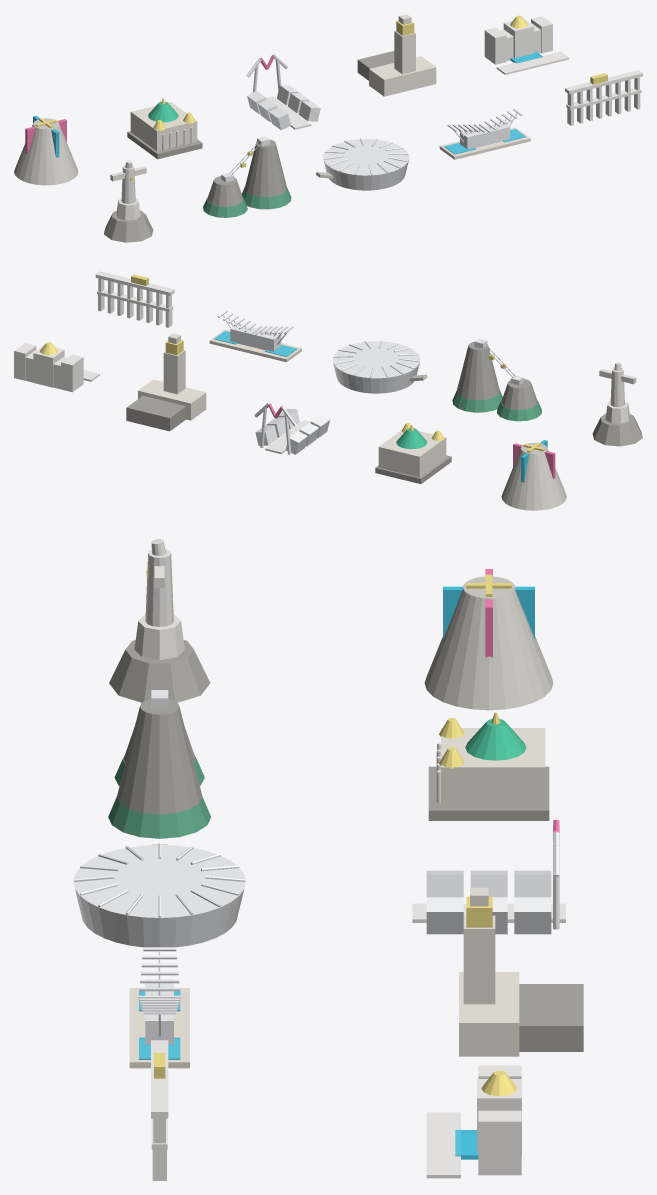
File: rio_monuments.glb
3 views of the same model, one above another, from view 1: azimuth 30°, elevation 25°; view 2: azimuth 150°, elevation 25°; view 3: azimuth 270°, elevation 25° (orthographic). The views are drawn at different scales.
Parts seen in each view (by area): view 1: Maracana_Outer_Bowl, Cat_Mayan_Cone, Theatro_Main_Body, Pao_de_Acucar_Monolith, Central_Concourse_Wings, Corcovado_Peak_Base, Central_Tower_Shaft, Tomorrow_Main_Hall, Morro_da_Urca, Copa_Center_Pavilion, Copa_Wing_Tower_-1.95, Copa_Wave_Promenade (+15 smaller); view 2: Maracana_Outer_Bowl, Cat_Mayan_Cone, Theatro_Main_Body, Pao_de_Acucar_Monolith, Central_Train_Shed, Central_Concourse_Wings, Corcovado_Peak_Base, Central_Tower_Shaft, Tomorrow_Main_Hall, Morro_da_Urca, Copa_Center_Pavilion, Copa_Wing_Tower_-1.95 (+12 smaller); view 3: Maracana_Outer_Bowl, Cat_Mayan_Cone, Pao_de_Acucar_Monolith, Theatro_Main_Body, Central_Train_Shed, Central_Concourse_Wings, Corcovado_Peak_Base, Copa_Wing_Tower_1.95, Central_Tower_Shaft, Pao_Forest_Skirt, Copa_Wave_Promenade, Theatro_Plinth (+12 smaller).
Boxes of the visible parts, bbox=[...] form: Maracana_Outer_Bowl: bbox=[323, 139, 409, 190]; Cat_Mayan_Cone: bbox=[14, 118, 78, 185]; Theatro_Main_Body: bbox=[130, 102, 197, 151]; Pao_de_Acucar_Monolith: bbox=[244, 139, 286, 197]; Central_Concourse_Wings: bbox=[369, 56, 436, 96]; Corcovado_Peak_Base: bbox=[104, 210, 153, 242]; Central_Tower_Shaft: bbox=[394, 30, 415, 74]; Tomorrow_Main_Hall: bbox=[460, 122, 509, 149]; Morro_da_Urca: bbox=[207, 176, 243, 206]; Copa_Center_Pavilion: bbox=[503, 18, 534, 58]; Copa_Wing_Tower_-1.95: bbox=[484, 27, 506, 64]; Copa_Wave_Promenade: bbox=[496, 51, 569, 74]; Maracana_Outer_Bowl: bbox=[332, 341, 420, 393]; Cat_Mayan_Cone: bbox=[501, 442, 566, 510]; Theatro_Main_Body: bbox=[378, 430, 446, 477]; Pao_de_Acucar_Monolith: bbox=[457, 342, 499, 400]; Central_Train_Shed: bbox=[126, 395, 186, 431]; Central_Concourse_Wings: bbox=[138, 379, 206, 420]; Corcovado_Peak_Base: bbox=[592, 413, 642, 446]; Central_Tower_Shaft: bbox=[163, 350, 185, 394]; Tomorrow_Main_Hall: bbox=[230, 324, 281, 351]; Morro_da_Urca: bbox=[501, 379, 537, 409]; Copa_Center_Pavilion: bbox=[33, 345, 64, 387]; Copa_Wing_Tower_-1.95: bbox=[61, 354, 83, 392]; Maracana_Outer_Bowl: bbox=[73, 845, 245, 947]; Cat_Mayan_Cone: bbox=[424, 576, 553, 710]; Pao_de_Acucar_Monolith: bbox=[117, 699, 202, 814]; Theatro_Main_Body: bbox=[441, 728, 545, 808]; Central_Train_Shed: bbox=[519, 984, 583, 1051]; Central_Concourse_Wings: bbox=[459, 972, 519, 1056]; Corcovado_Peak_Base: bbox=[109, 640, 210, 702]; Copa_Wing_Tower_1.95: bbox=[478, 1110, 521, 1175]; Central_Tower_Shaft: bbox=[463, 915, 495, 1004]; Pao_Forest_Skirt: bbox=[108, 797, 210, 838]; Copa_Wave_Promenade: bbox=[426, 1112, 460, 1178]; Theatro_Plinth: bbox=[428, 766, 549, 820].
Bounding box in the file's own units: 45.45 × 5.78 × 18.6.
